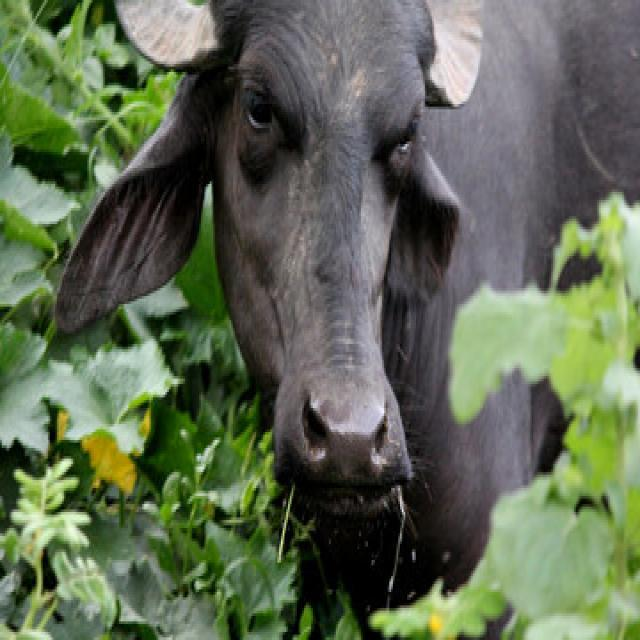Buffalo: (51, 0, 638, 637)
